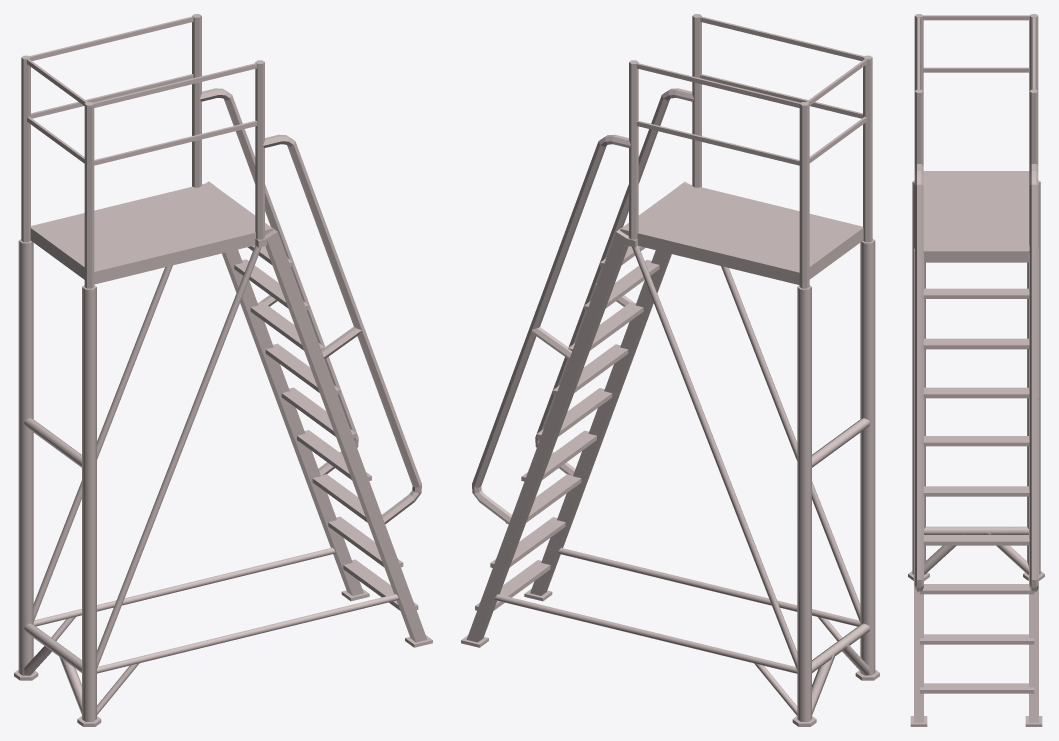
Rendered from SM_Stairs_02.fbx.
3 views of the same model, side by side, from view 1: azimuth 30°, elevation 25°; view 2: azimuth 150°, elevation 25°; view 3: azimuth 270°, elevation 25° (orthographic). The views are drawn at different scales.
Parts seen in each view (by area): view 1: SM_Stairs_02; view 2: SM_Stairs_02; view 3: SM_Stairs_02.
Boxes of the visible parts, <box> form: SM_Stairs_02: <box>14,14,432,726</box>; SM_Stairs_02: <box>461,14,879,726</box>; SM_Stairs_02: <box>908,14,1044,726</box>.
Size of the model in its own units: 235 by 399 by 87.99.
